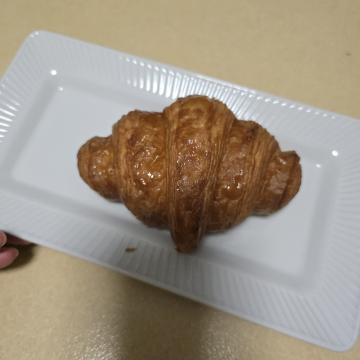croissant: (80, 55, 269, 301)
